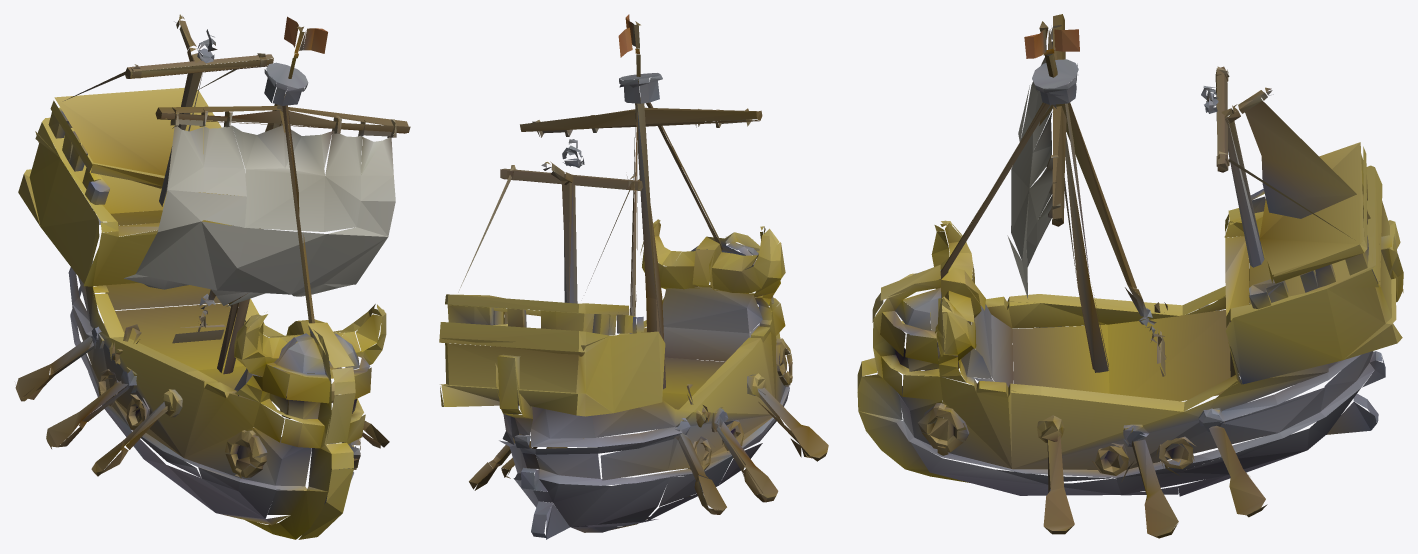
The model's file is warship.glb.
3 renders of one model, left to right at view 1: azimuth 30°, elevation 25°; view 2: azimuth 150°, elevation 25°; view 3: azimuth 270°, elevation 25°, orthographic. The views are drawn at different scales.
Visible parts, largest first — view 1: warship; view 2: warship; view 3: warship.
Boxes of the visible parts, bbox=[...] form: warship: bbox=[15, 14, 410, 539]; warship: bbox=[439, 14, 828, 539]; warship: bbox=[857, 14, 1403, 538].
Size of the model in its own units: 2.08 by 2.96 by 2.98.
